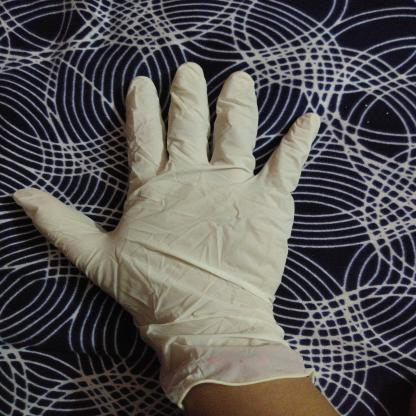gloved_hand: (10, 60, 328, 410)
